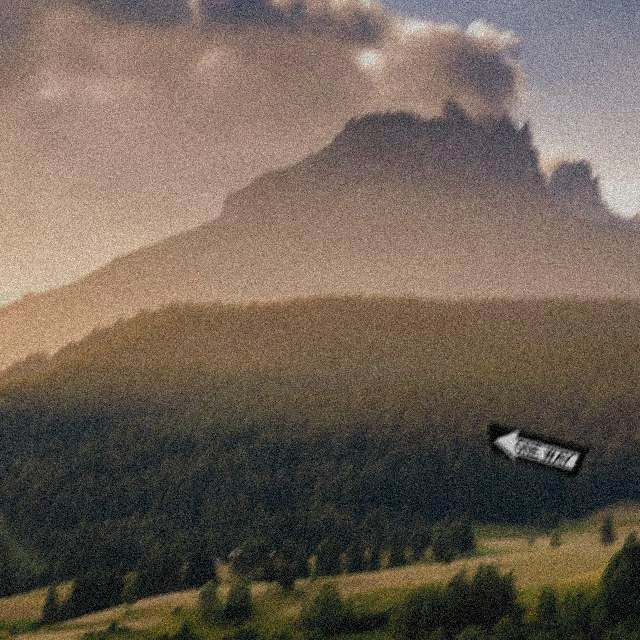ONE_WAY_ left: (488, 422, 590, 478)
